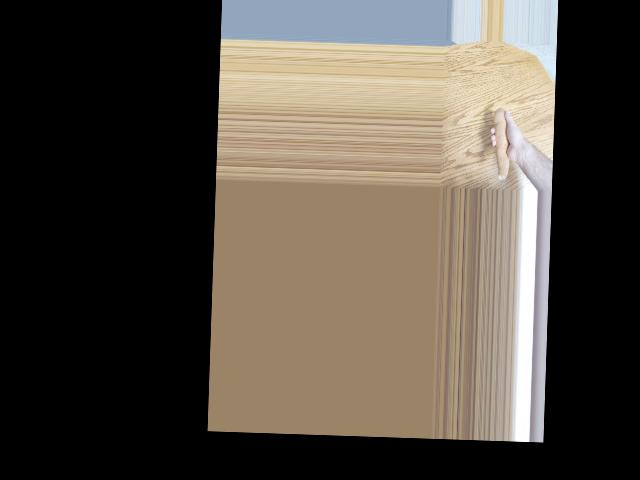sweet_potato: (490, 106, 517, 182)
